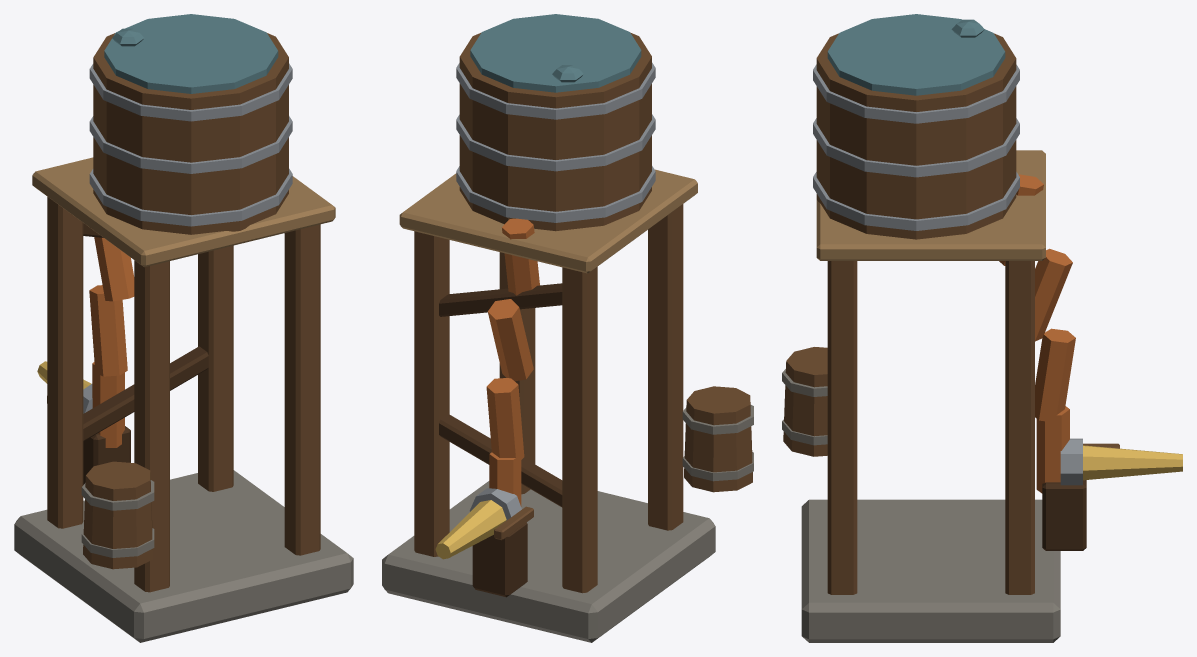
File: pressure_sluice.fbx
3 views of the same model, side by side, from view 1: azimuth 30°, elevation 25°; view 2: azimuth 150°, elevation 25°; view 3: azimuth 270°, elevation 25° (orthographic). The views are drawn at different scales.
Visible parts, largest first — view 1: Base, Nozzle; view 2: Base, Nozzle; view 3: Base, Nozzle.
Part boxes in pixels (left/top/right/bottom): Base: left=14, top=14, right=353, bottom=642; Nozzle: left=37, top=361, right=92, bottom=413; Base: left=382, top=14, right=753, bottom=642; Nozzle: left=435, top=488, right=533, bottom=559; Base: left=782, top=14, right=1086, bottom=642; Nozzle: left=1060, top=438, right=1182, bottom=485.
Bounding box in the file's own units: 0.8314 × 1.08 × 1.64.
